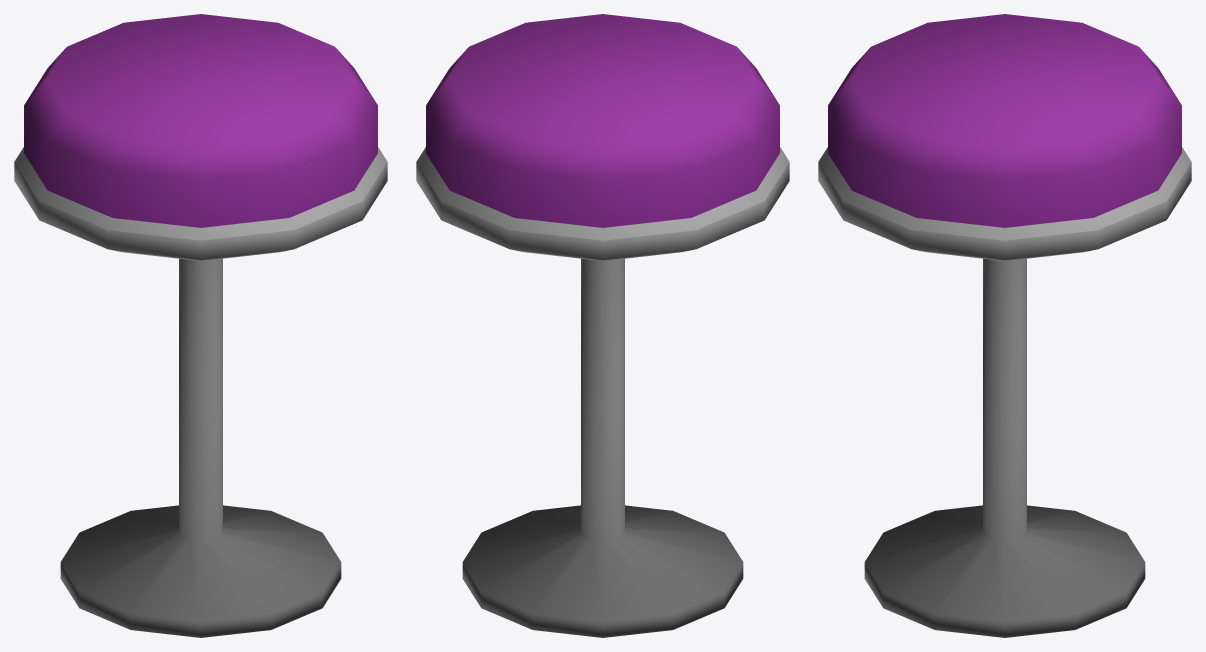
The model's file is Nightclub_Stool.fbx.
The picture shows the model from 3 angles, left to right: view 1: azimuth 30°, elevation 25°; view 2: azimuth 150°, elevation 25°; view 3: azimuth 270°, elevation 25°; orthographic projection.
Parts seen in each view (by area): view 1: Circle.005; view 2: Circle.005; view 3: Circle.005.
Part boxes in pixels (bbox=[...]): Circle.005: bbox=[14, 14, 387, 637]; Circle.005: bbox=[416, 14, 789, 637]; Circle.005: bbox=[818, 14, 1191, 637].
Size of the model in its own units: 84.74 by 125 by 84.74.
